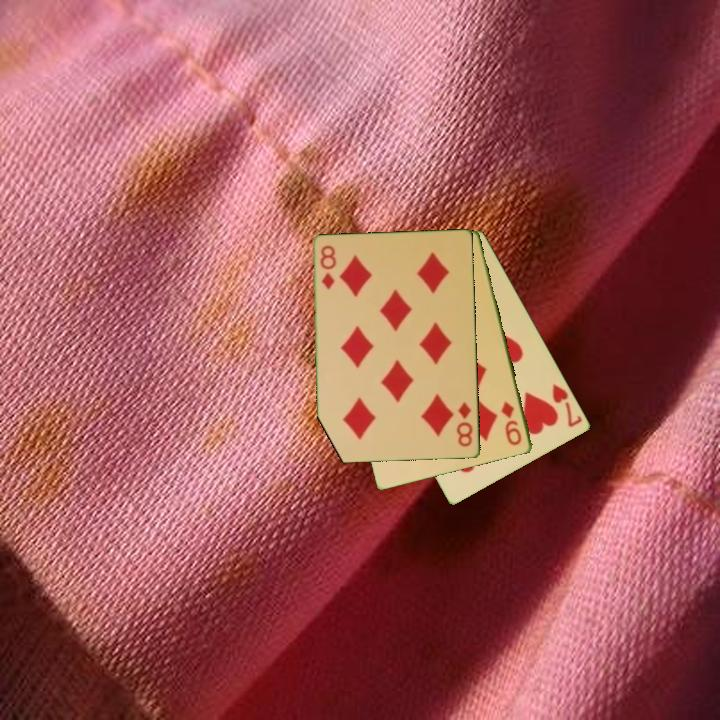7h: (549, 380, 585, 430)
8d: (454, 399, 475, 450), (317, 242, 338, 292)
9d: (498, 398, 525, 449)
